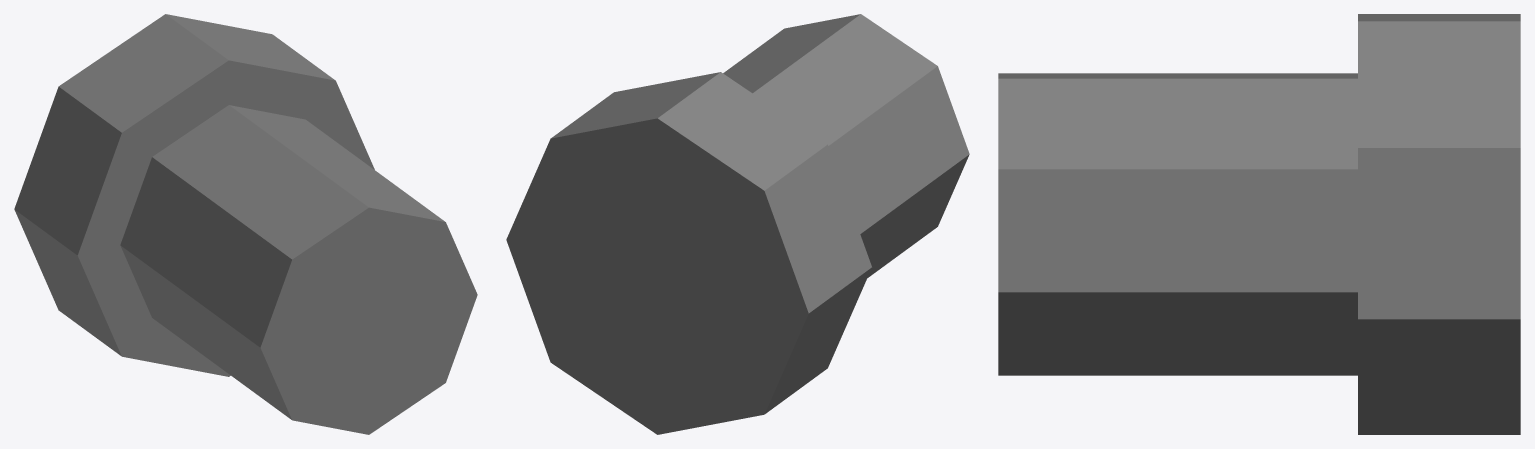
Rendered from XiaoFang4_Mo.fbx.
3 renders of one model, left to right at view 1: azimuth 30°, elevation 25°; view 2: azimuth 150°, elevation 25°; view 3: azimuth 270°, elevation 25°, orthographic. The views are drawn at different scales.
Parts seen in each view (by area): view 1: Cylinder001; view 2: Cylinder001; view 3: Cylinder001.
Part boxes in pixels (left/top/right/bottom): Cylinder001: left=14, top=14, right=477, bottom=434; Cylinder001: left=506, top=14, right=969, bottom=434; Cylinder001: left=998, top=14, right=1520, bottom=434.
Size of the model in its own units: 102 by 102 by 118.
1 material, 1 textured.
